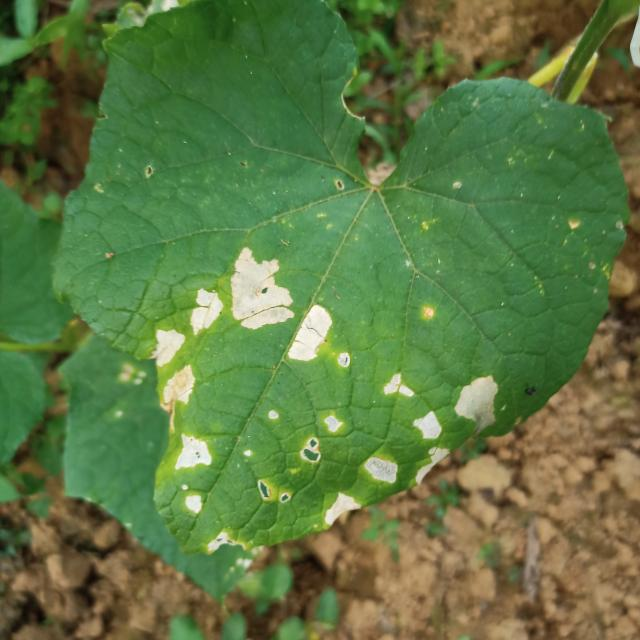disease_cucumber: (232, 249, 332, 363), (152, 328, 197, 406), (175, 435, 215, 518), (410, 406, 450, 479), (301, 414, 343, 469), (457, 377, 498, 427), (189, 288, 222, 334), (364, 454, 398, 490), (323, 493, 361, 524), (381, 372, 415, 401)
